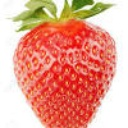strawberry: (9, 1, 125, 128)
